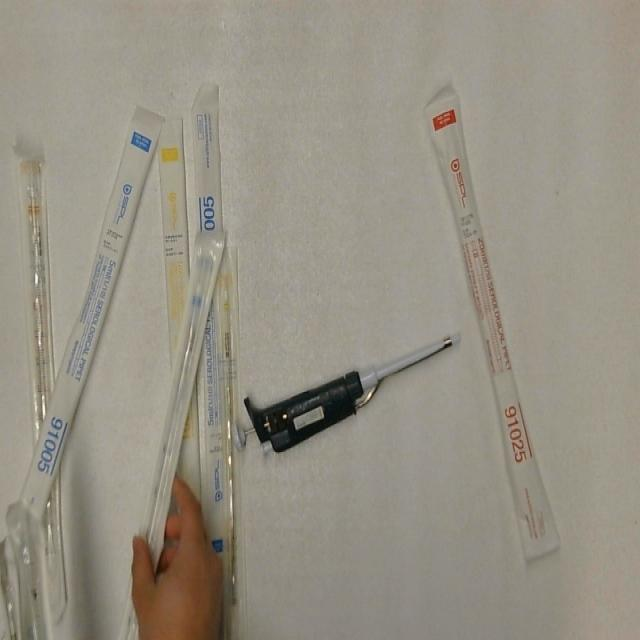Serelogical Pipet 1 mL - Sealed: (156, 115, 200, 503), (222, 243, 240, 615)
Serelogical Pipet 10 mL - Sealed: (14, 143, 65, 464)
Serelogical Pipet 25 mL - Sealed: (424, 84, 562, 566)
Serelogical Pipet 5 mL - Sealed: (17, 98, 167, 527), (117, 225, 230, 640), (195, 77, 228, 574)
Single Channel Pipettor: (228, 326, 465, 459)
